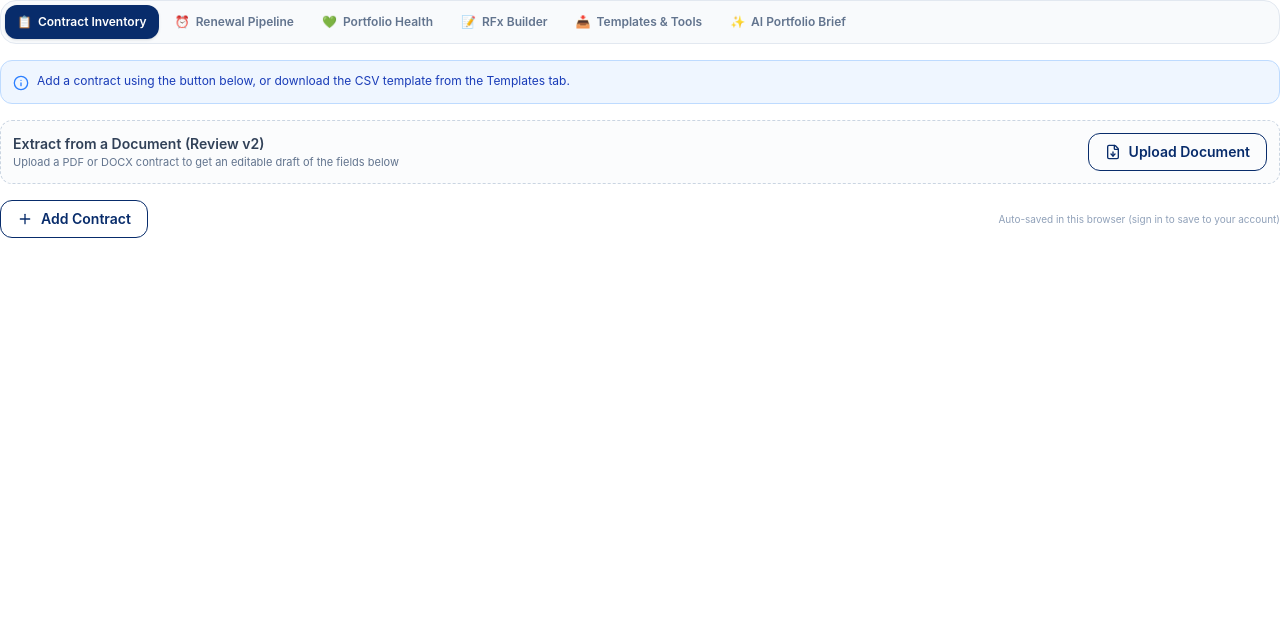
Test: #385 UNSPSC Class/Commodity searchable lookup › the confirmation chip Clear button clears class/commodity but leaves family/segment intact
Click the button "Add Contract". click: click(74, 219)
box: x1=0 y1=200 x2=148 y2=238
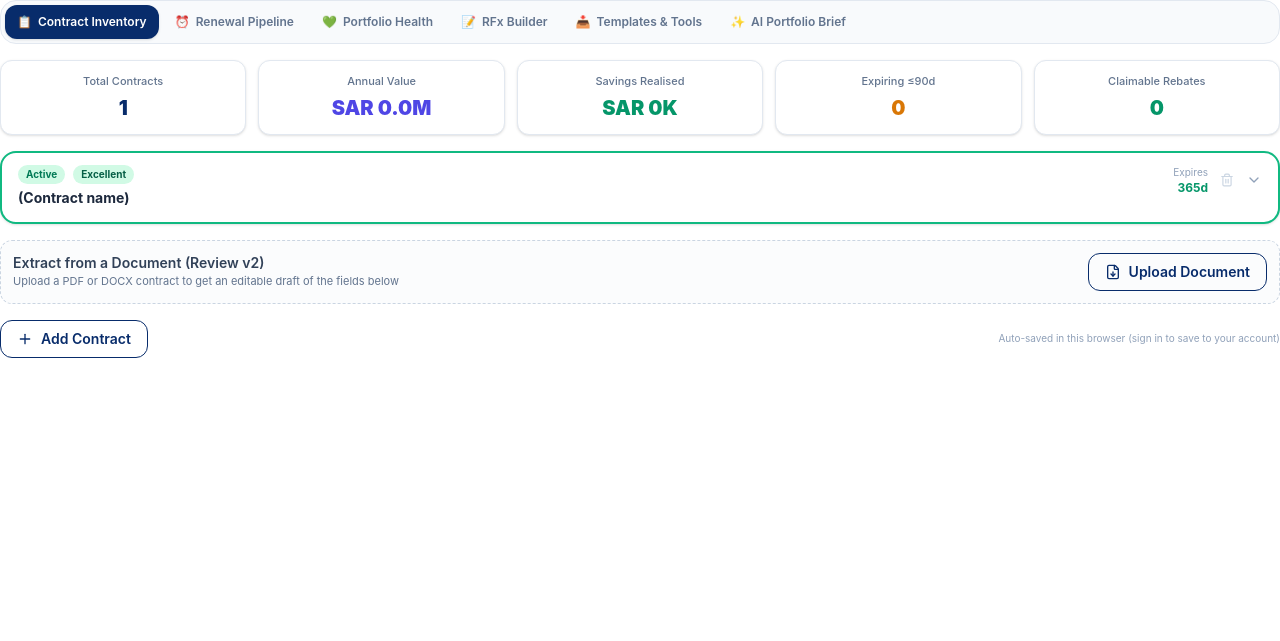
Click the text "(Contract name)". click: click(74, 197)
box: x1=18 y1=188 x2=130 y2=206
(page scrolled)
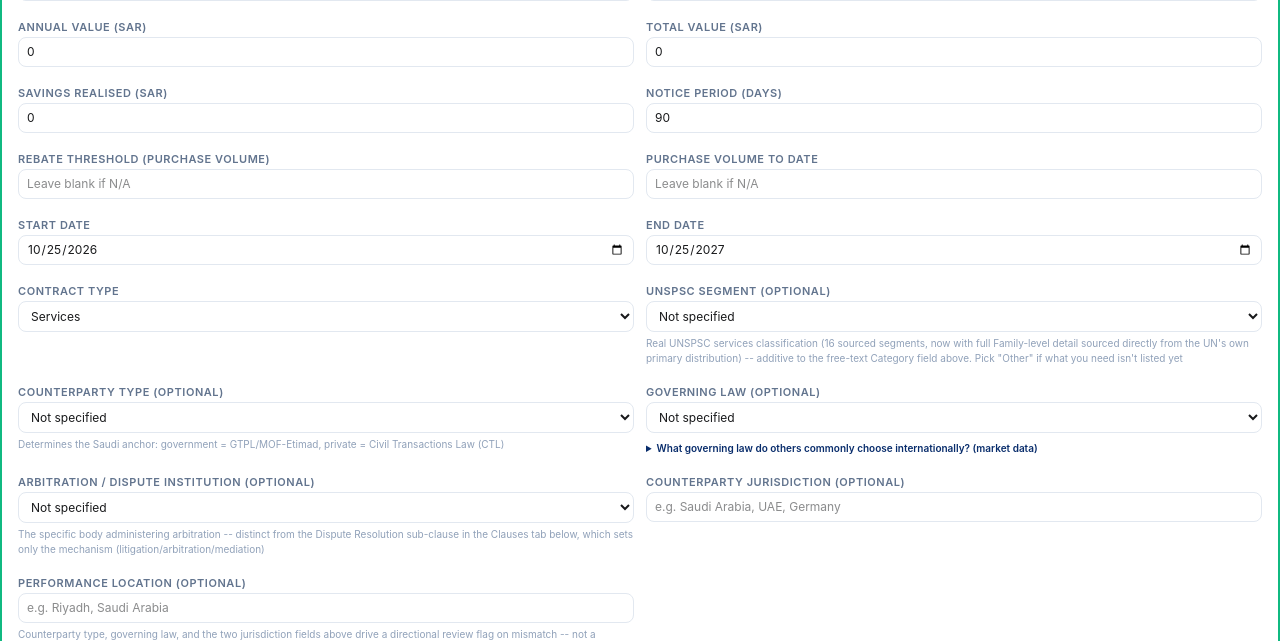
Select "80 -- Management, Business Professionals and Administrative Services" in the dropdown labelled "UNSPSC Segment (optional)". click: (954, 316)
box: x1=646 y1=300 x2=1262 y2=332
(page scrolled)
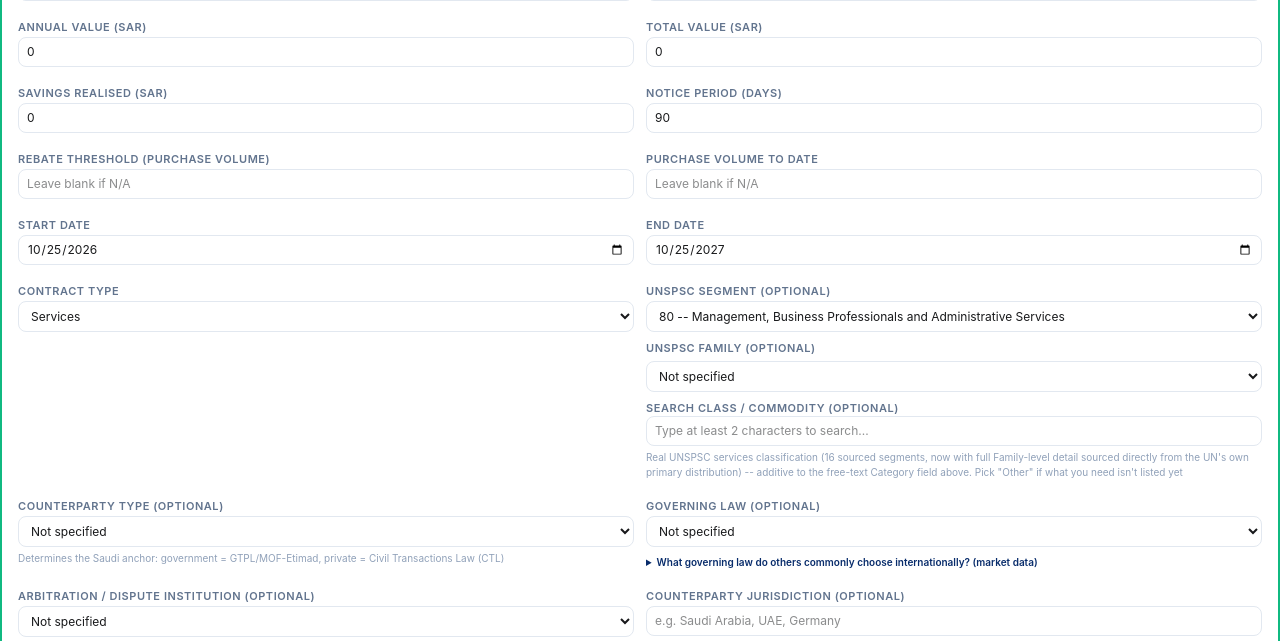
Type "Staff recruiting services" into the field labelled "Search Class / Commodity (optional)". click: (954, 431)
box: x1=646 y1=416 x2=1262 y2=446
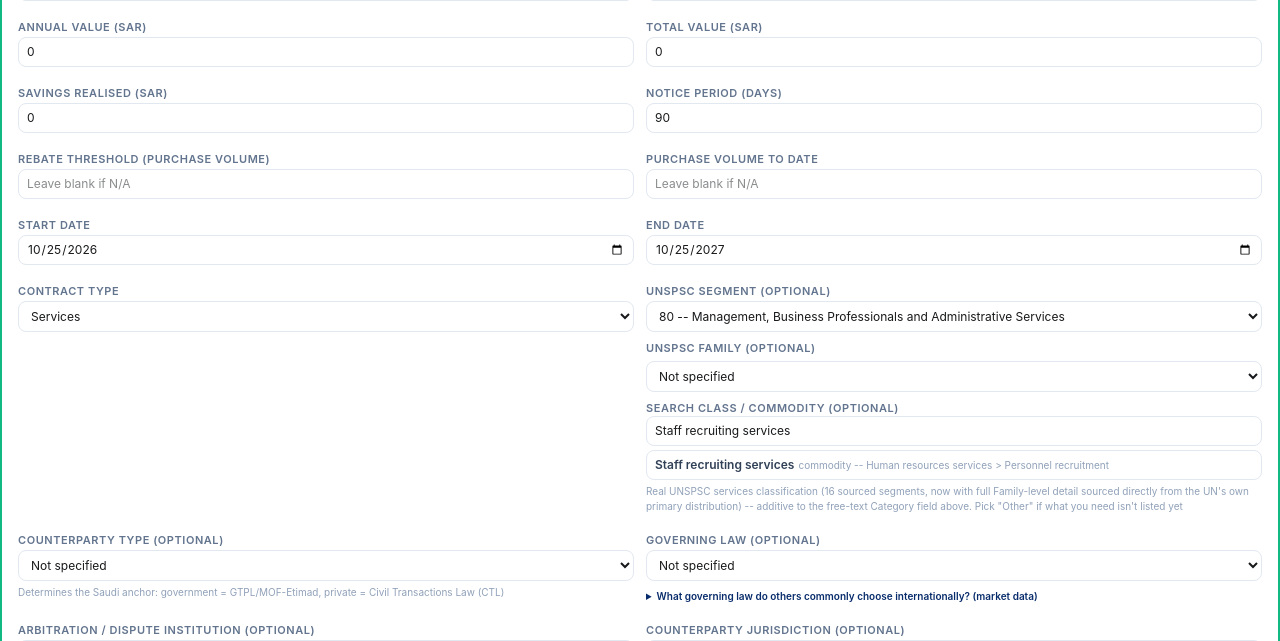
Click the text "Staff recruiting services". click: click(725, 464)
box: x1=655 y1=457 x2=794 y2=472
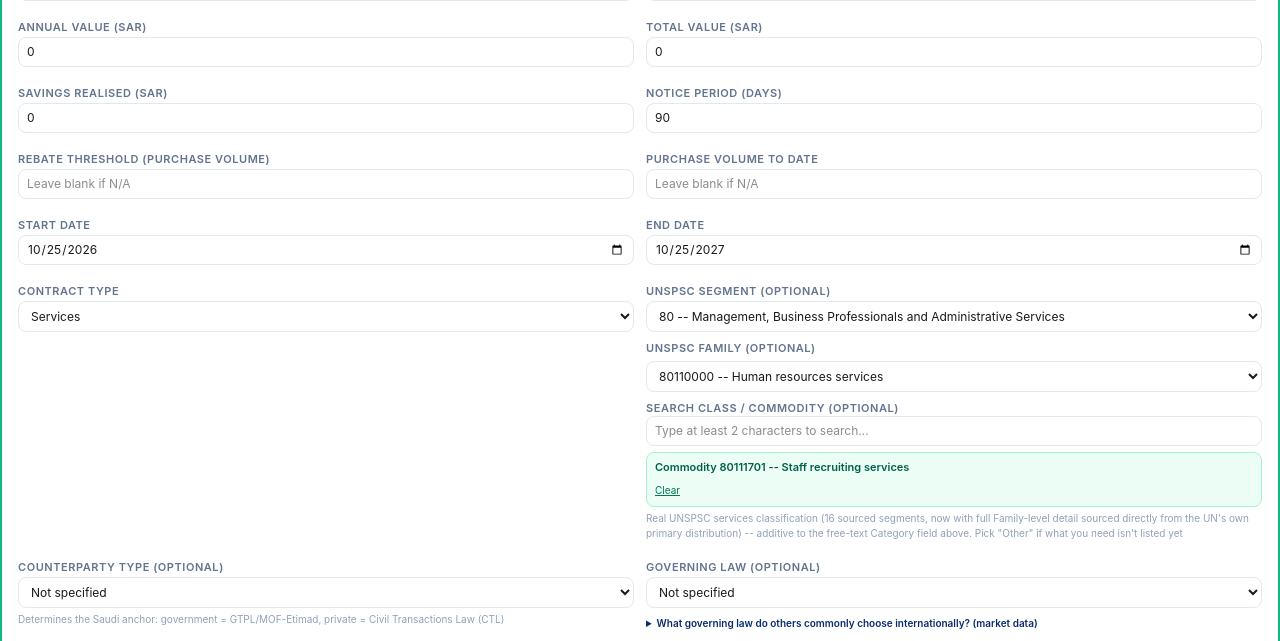
Click the button "Clear". click: click(668, 490)
box: x1=655 y1=482 x2=680 y2=498
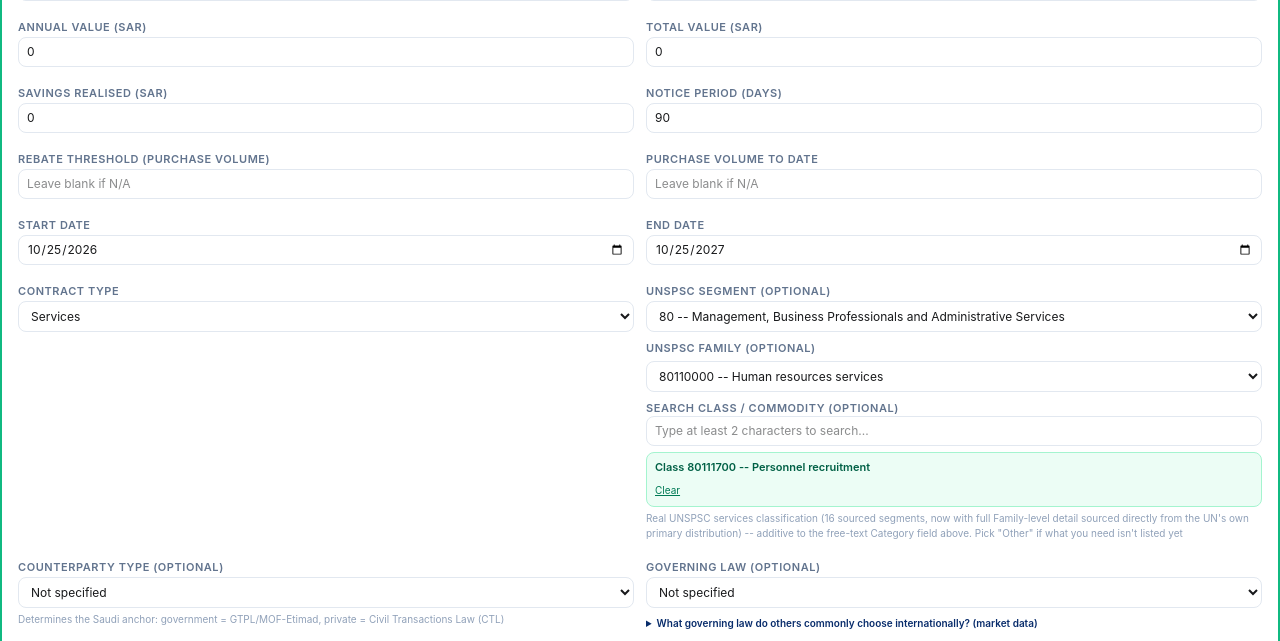
Check: the dropdown labelled "UNSPSC Family (optional)" shows "80110000 -- Human resources services", box x1=646 y1=360 x2=1262 y2=392
Check: the text "80111701" is gone
